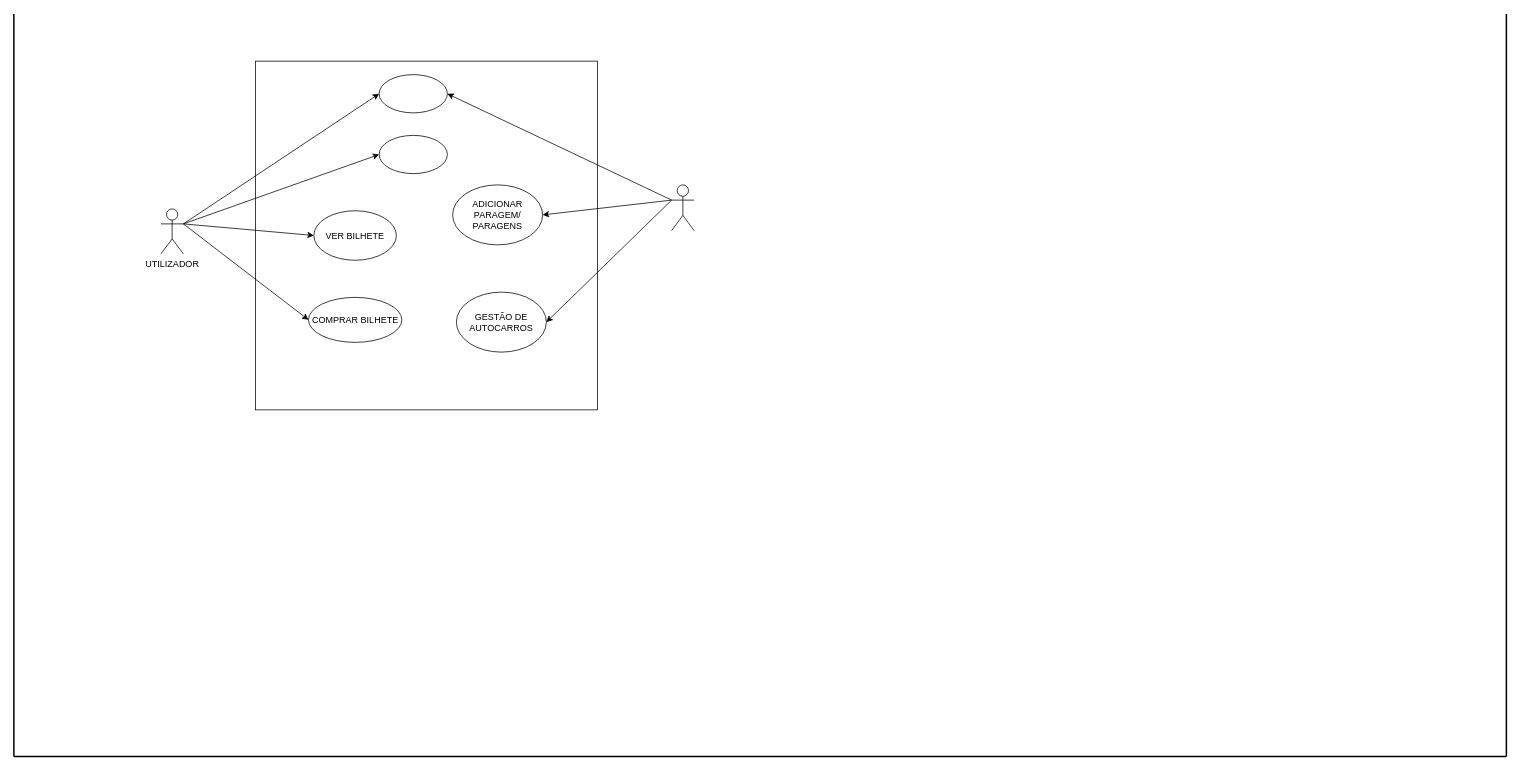
This 1520x770 diagram has some shape labels left out. Here are the shapes that lost their labels. From the top down, the centre of each, then its label:
At point 412,93: "LOGIN".
At point 412,154: "REGISTAR".
At point 682,207: "GESTOR".
